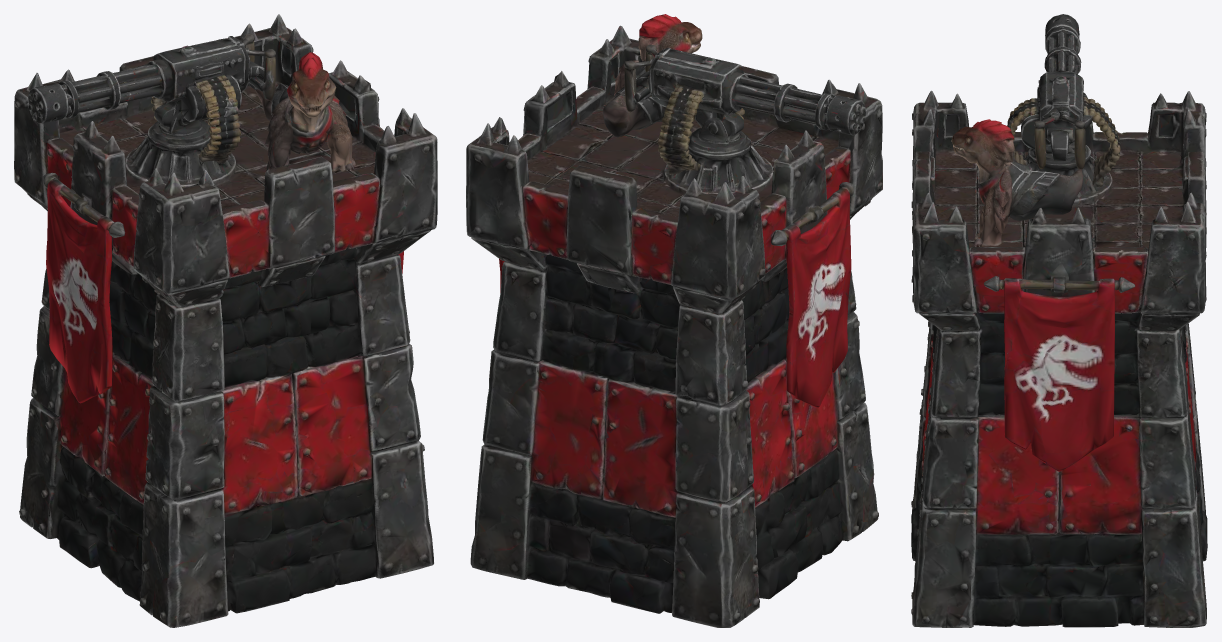
3 views of the same model, side by side, from view 1: azimuth 30°, elevation 25°; view 2: azimuth 150°, elevation 25°; view 3: azimuth 270°, elevation 25° (orthographic). The views are drawn at different scales.
Bounding box in the file's own units: 1.35 × 1.9 × 1.08.
Materials: 1 (1 with a texture image).
